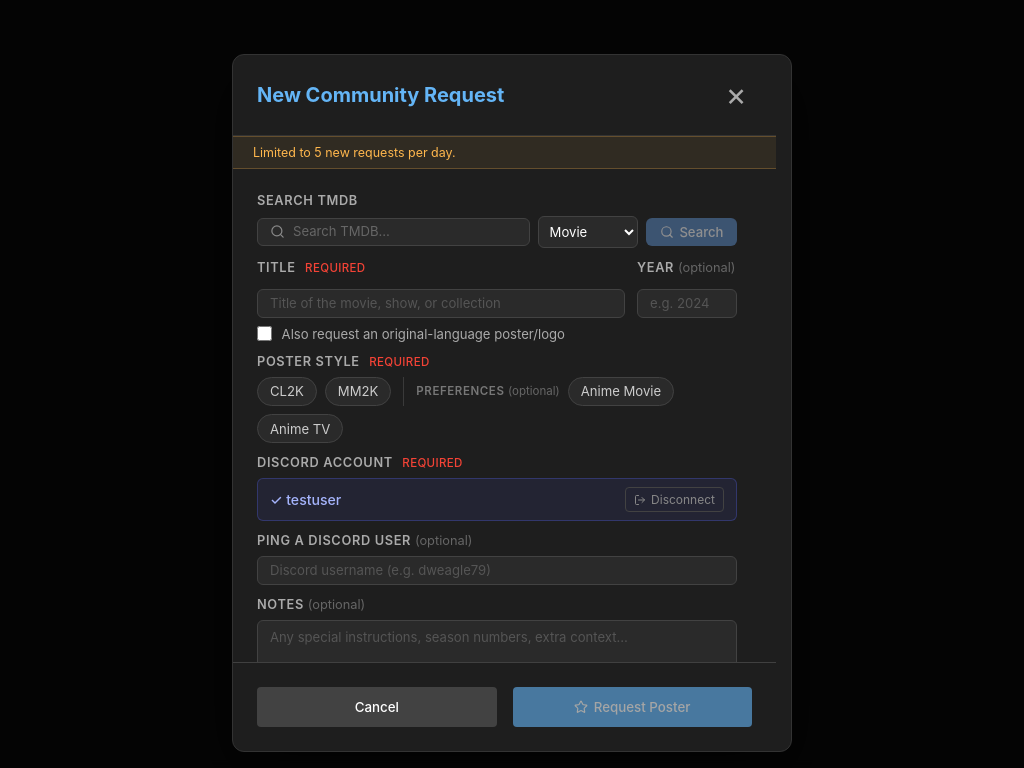
Test: NewCommunityRequestModal › submission › offers the all-movies box once a collection match is selected
This screenshot has width=1024, height=768.
Expected: the field labelled "every movie in this collection" is not shown
Type "Alien" into the field with placeholder "Search TMDB…".
click(405, 232); type("Alien")  # box [293,224,517,240]
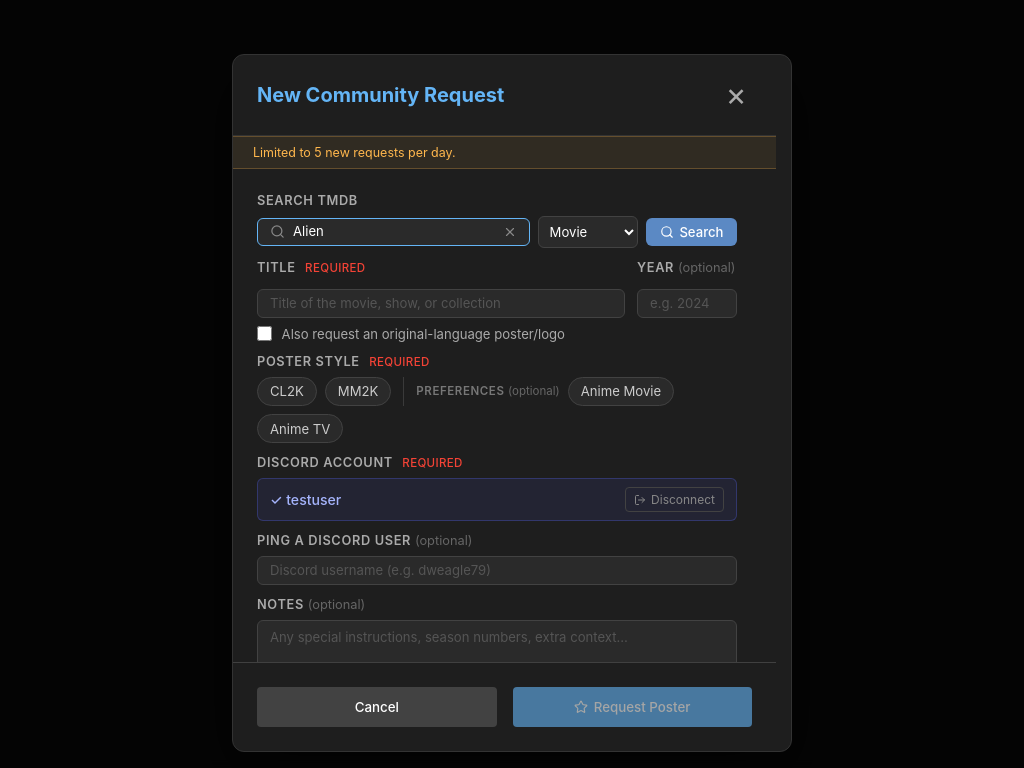
Click the button "Search".
click(692, 232)  # box [646,218,737,246]
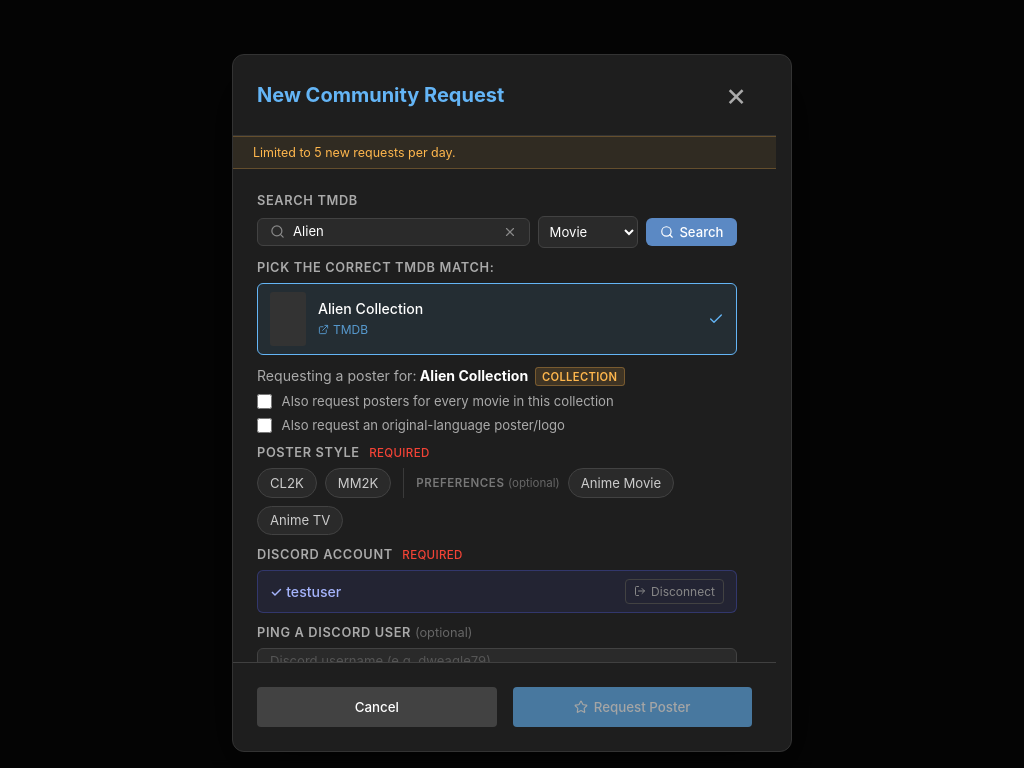
Result: the checkbox labelled "Also request posters for every movie in this collection" is shown at [257,394,272,409]
